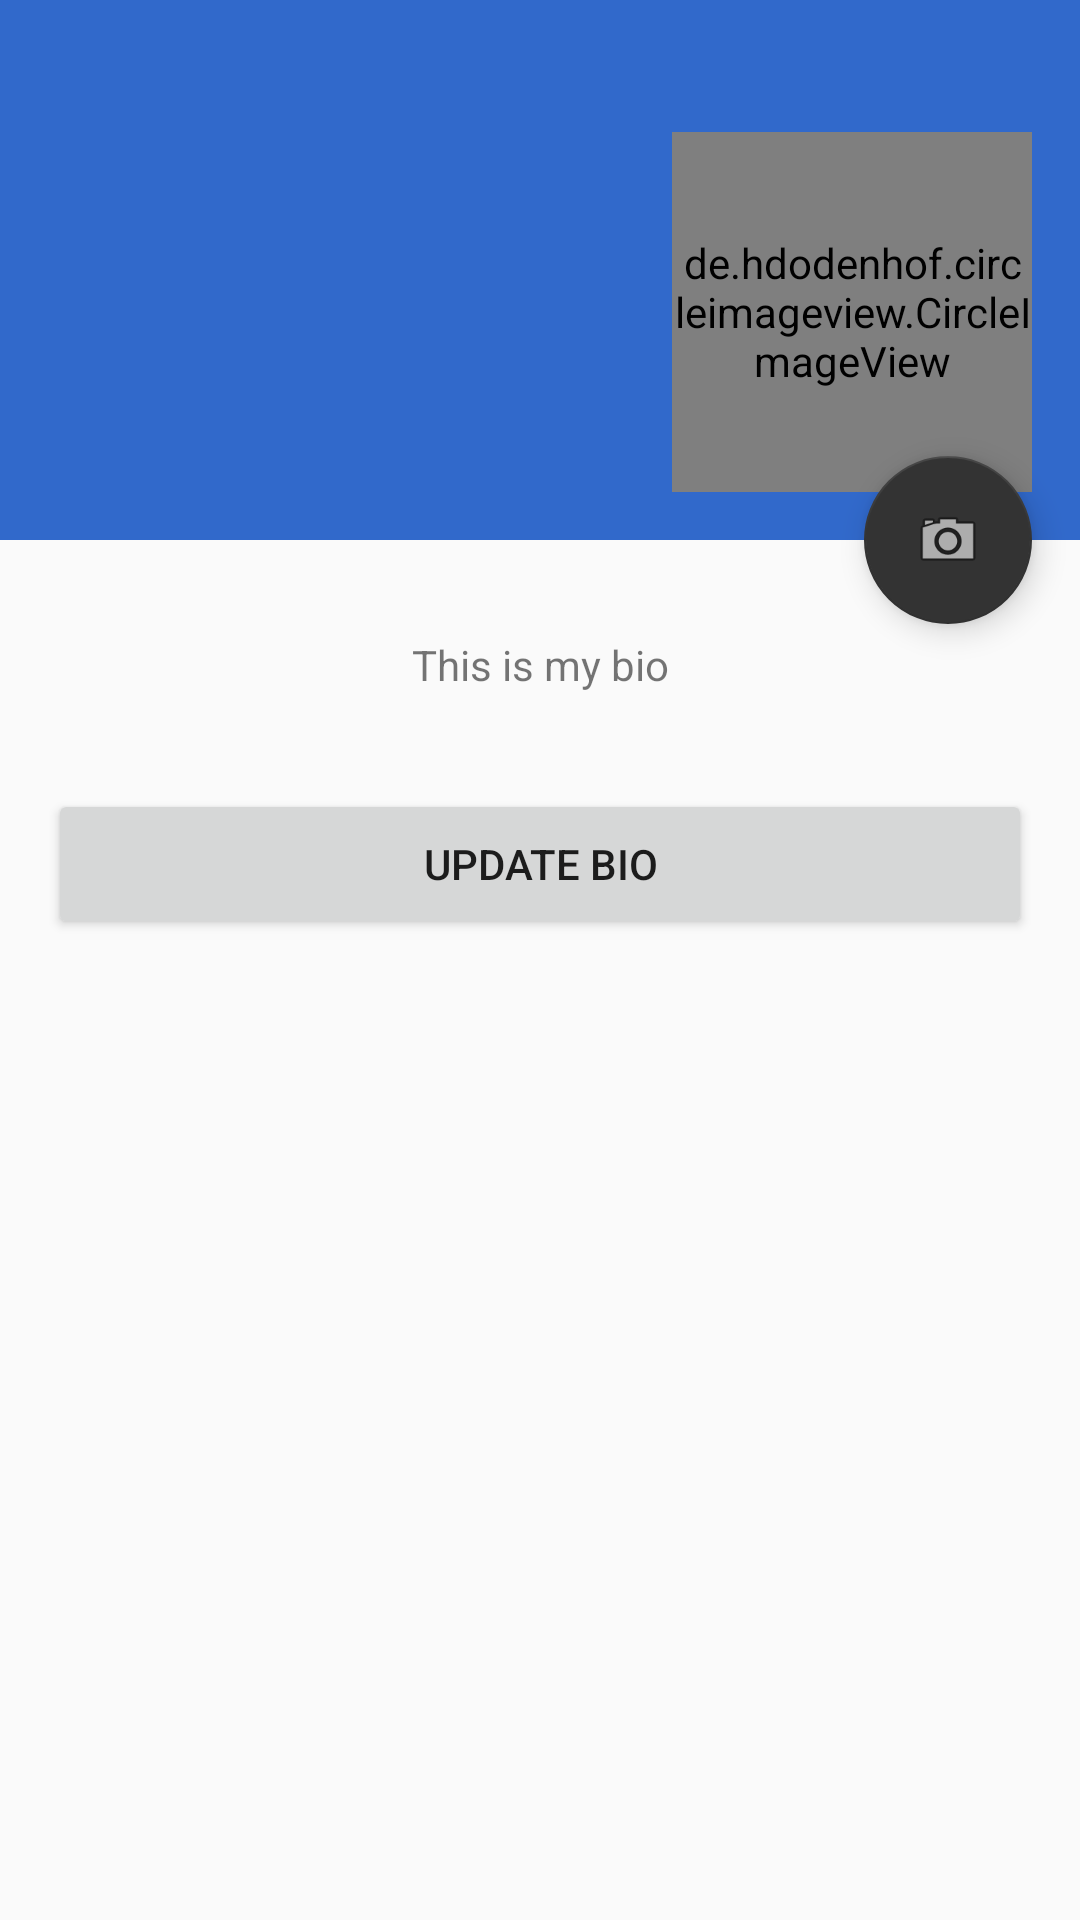

Named icons in this screenshot (1080px x 1920px) and their centers, point (x, y):
camera: point (948, 540)
